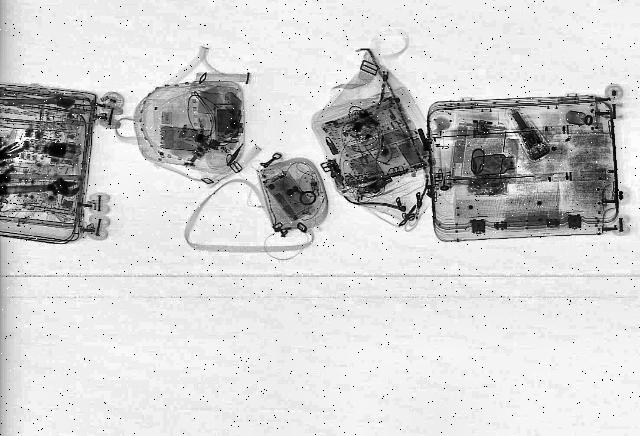Wrench: (1, 176, 81, 202), (2, 94, 76, 112)
